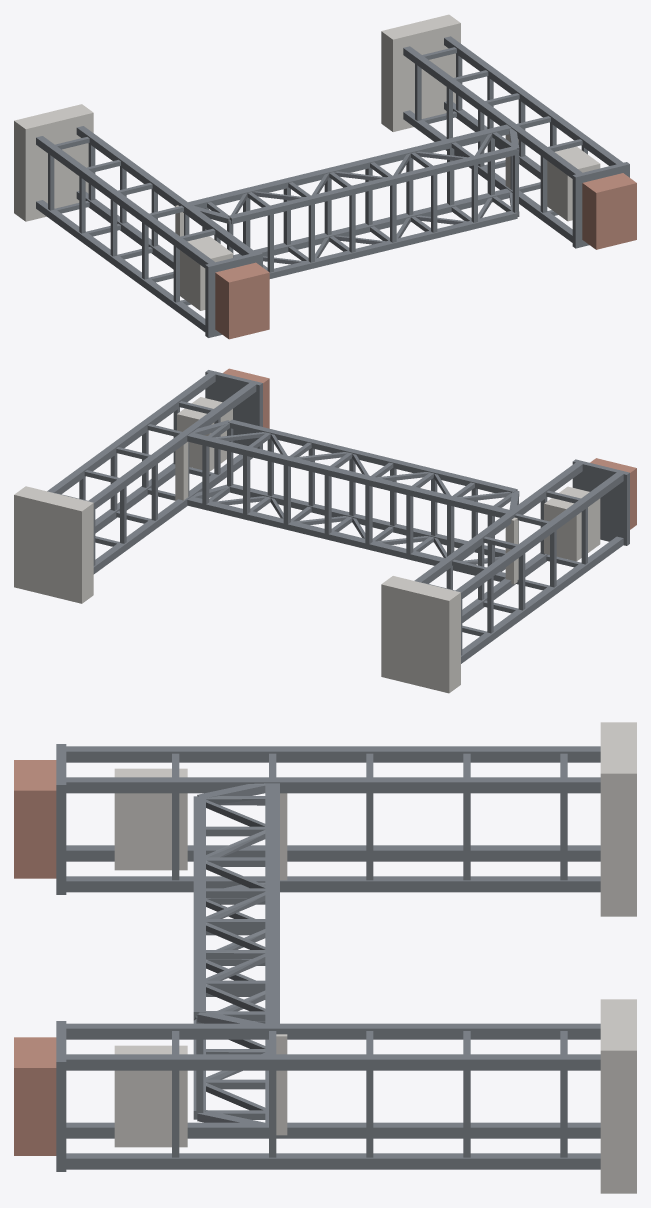
The model's file is r-114-cuyahoga-vertical-lift-bridge.glb.
3 renders of one model, top to bottom at view 1: azimuth 30°, elevation 25°; view 2: azimuth 150°, elevation 25°; view 3: azimuth 270°, elevation 25°, orthographic. The views are drawn at different scales.
Visible parts, largest first — view 1: steelwork, piers-counterweights, machinery-houses; view 2: steelwork, piers-counterweights, machinery-houses; view 3: steelwork, piers-counterweights, machinery-houses.
Boxes of the visible parts, bbox=[...] form: steelwork: bbox=[36, 36, 629, 337]; piers-counterweights: bbox=[14, 14, 600, 310]; machinery-houses: bbox=[215, 173, 636, 339]; steelwork: bbox=[47, 370, 629, 663]; piers-counterweights: bbox=[14, 397, 600, 693]; machinery-houses: bbox=[223, 368, 636, 529]; steelwork: bbox=[56, 744, 600, 1171]; piers-counterweights: bbox=[114, 722, 636, 1193]; machinery-houses: bbox=[14, 760, 56, 1155].
Size of the model in its own units: 64000 by 13000 by 51299.
